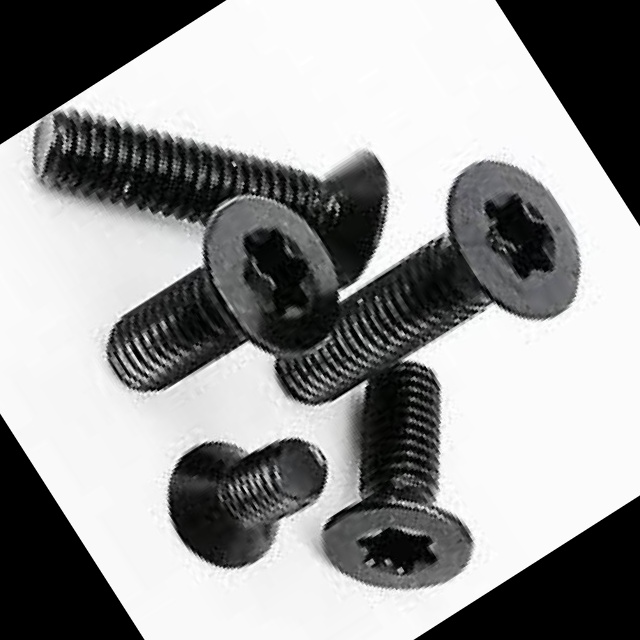torx: (181, 170, 372, 380), (427, 132, 613, 341), (310, 457, 490, 632)
